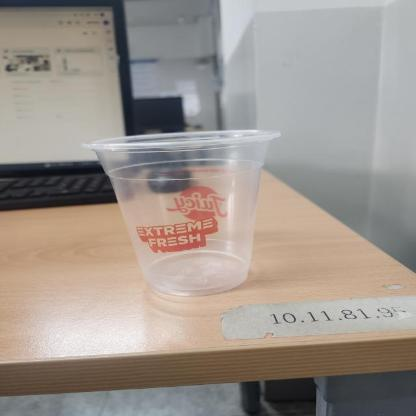Plastic Cup: (83, 129, 283, 297)
